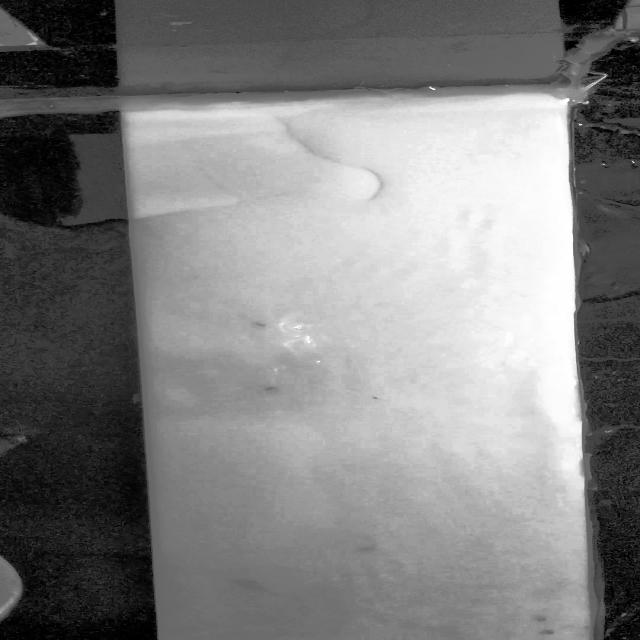shrimp: (258, 376, 292, 396), (230, 585, 277, 594), (248, 319, 275, 331), (533, 616, 558, 628), (234, 576, 266, 584), (364, 396, 389, 406), (534, 632, 561, 639)
